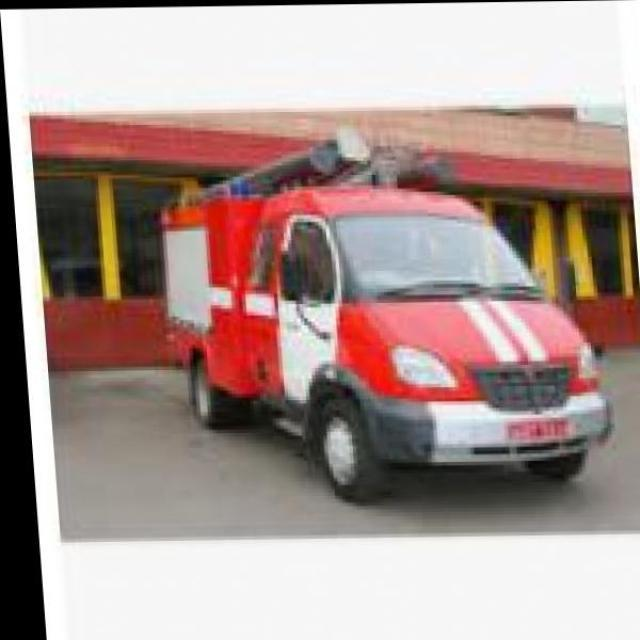emergency: (156, 125, 614, 502)
